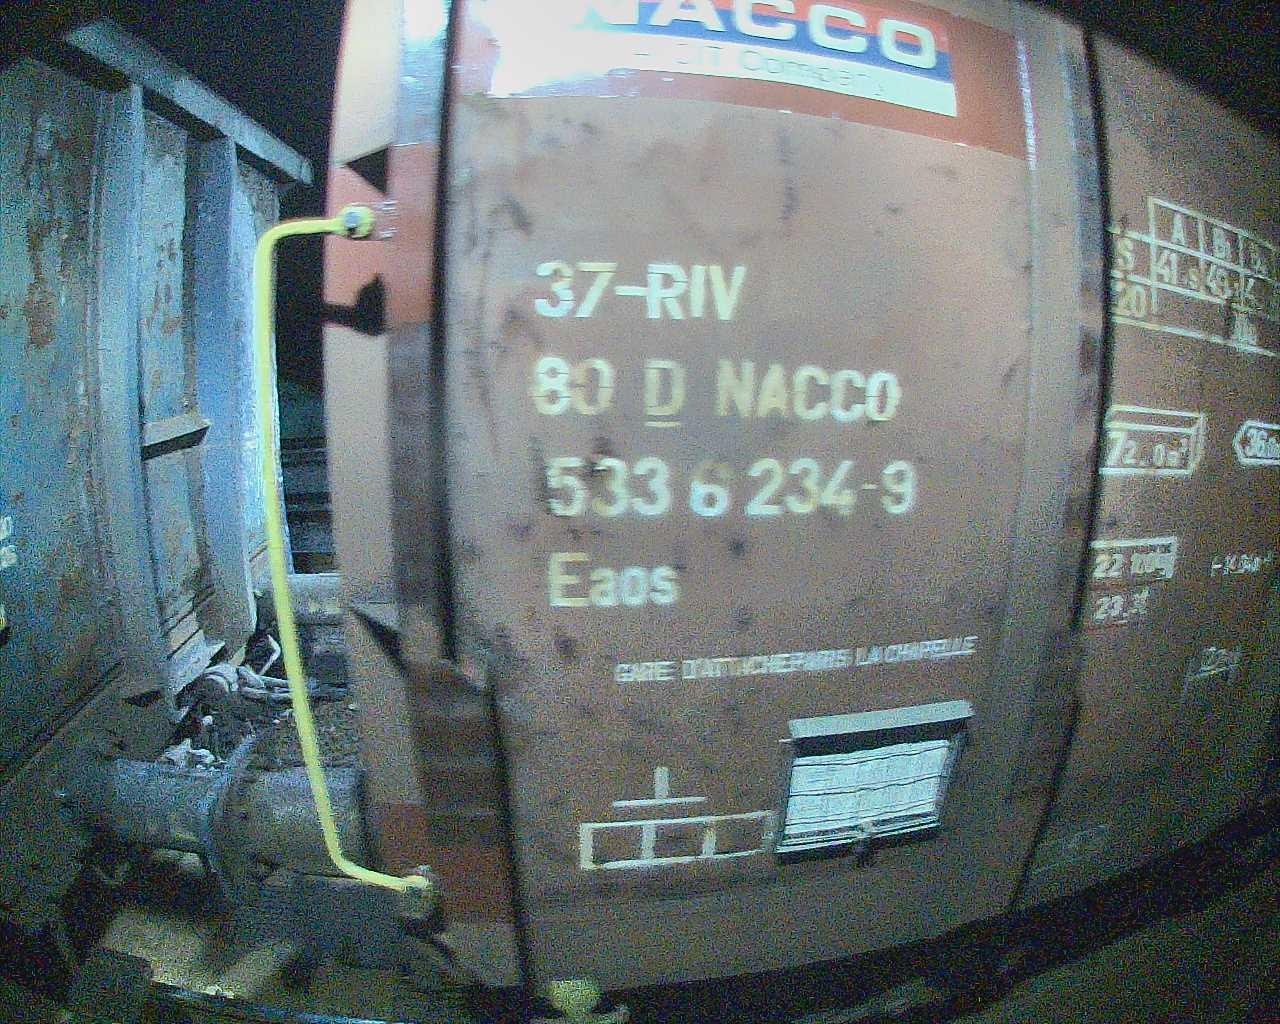UIC: (528, 255, 926, 615)
